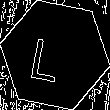L_N: (36, 27, 74, 83)
